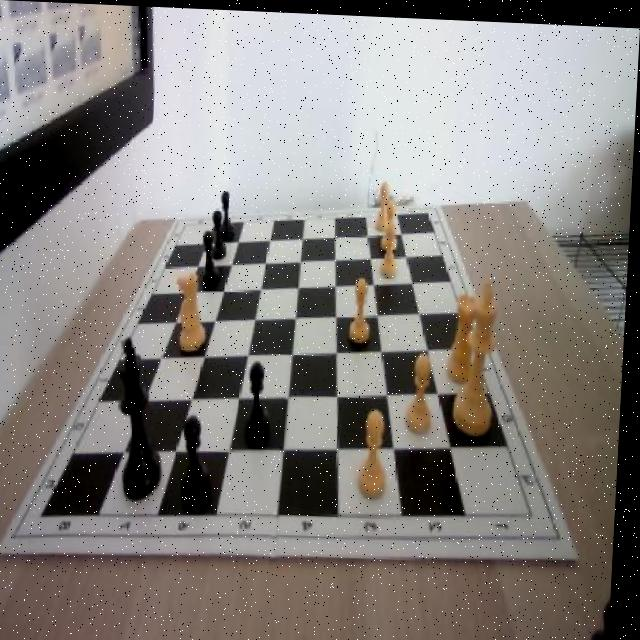black-bishop: (117, 334, 176, 500)
black-knight: (184, 416, 217, 505), (250, 357, 277, 439), (204, 231, 223, 287), (220, 190, 239, 242), (212, 208, 230, 257)
white-bishop: (456, 277, 508, 432)
white-king: (178, 273, 211, 351)
white-knight: (361, 402, 395, 493), (404, 350, 437, 433), (351, 271, 376, 340), (381, 218, 402, 275), (384, 195, 402, 249), (378, 177, 393, 227)
white-queen: (445, 290, 483, 377)
